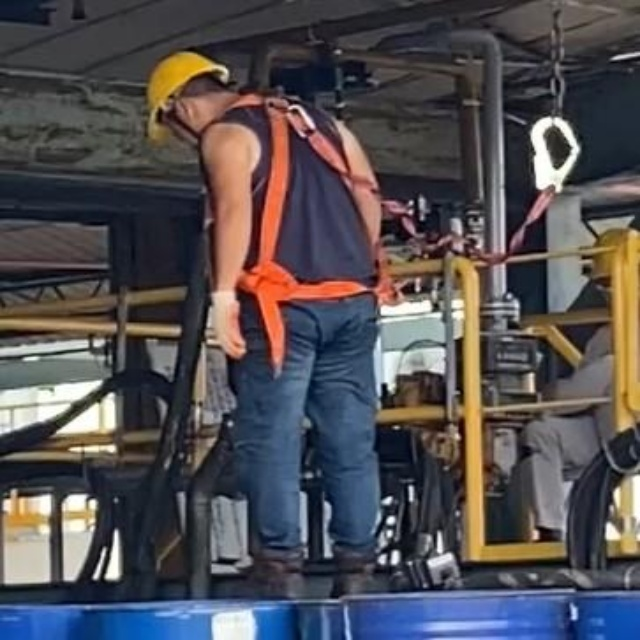Arnes_seguridad: (225, 96, 383, 374)
